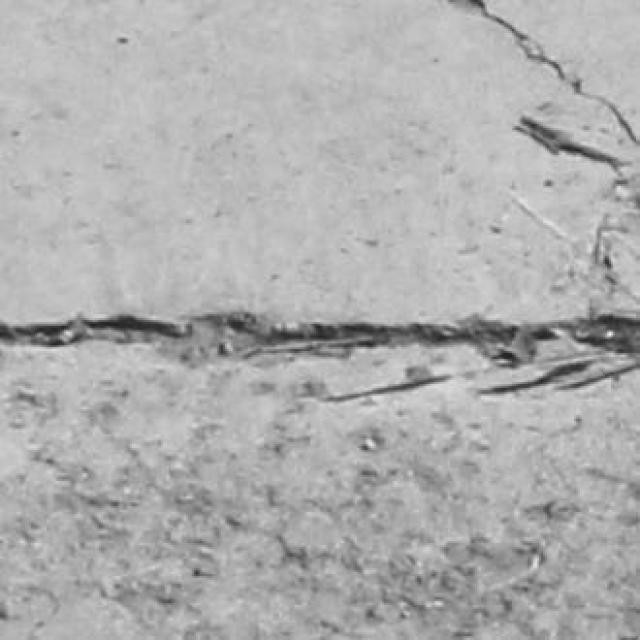crack: (0, 313, 639, 354), (466, 0, 639, 145), (516, 117, 628, 176)
